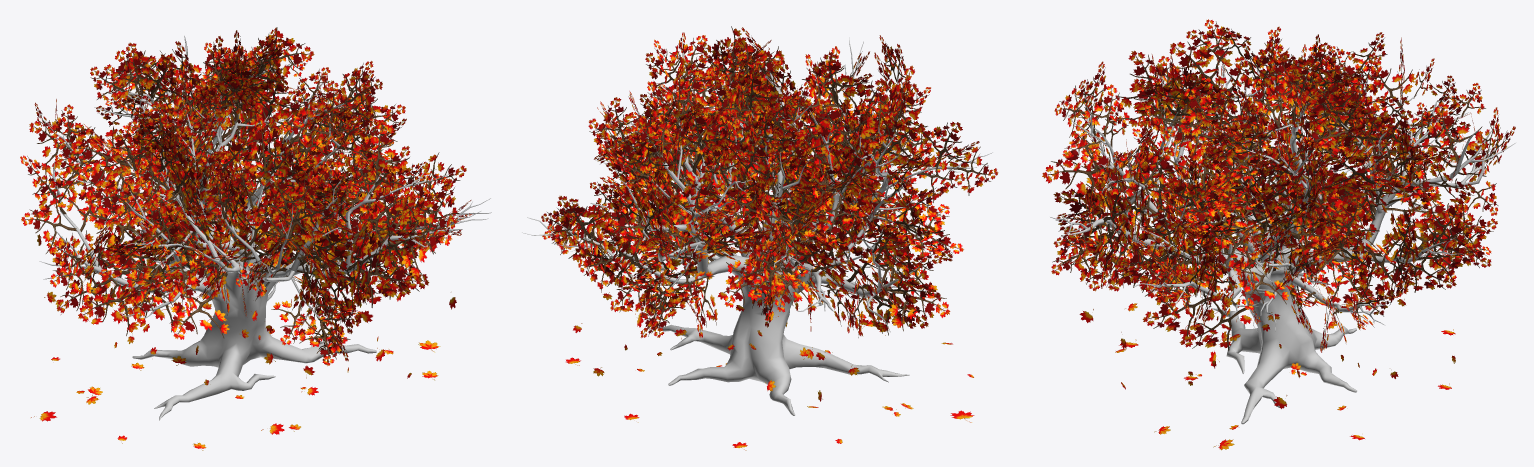
Rendered from tree1.fbx.
3 views of the same model, side by side, from view 1: azimuth 30°, elevation 25°; view 2: azimuth 150°, elevation 25°; view 3: azimuth 270°, elevation 25° (orthographic). The views are drawn at different scales.
Parts seen in each view (by area): view 1: Tree_with_Falling_Leaves.1; view 2: Tree_with_Falling_Leaves.1; view 3: Tree_with_Falling_Leaves.1.
Part boxes in pixels (x1,y1,x2,y2): Tree_with_Falling_Leaves.1: (20,27,491,450); Tree_with_Falling_Leaves.1: (522,26,998,450); Tree_with_Falling_Leaves.1: (1042,19,1515,450).
Bounding box in the file's own units: 15.59 × 11.92 × 15.88.
